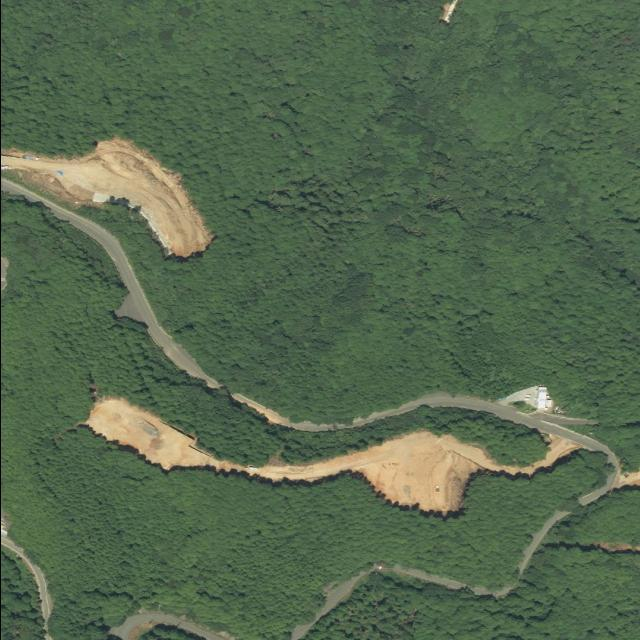landslide: (84, 398, 580, 513), (0, 137, 211, 256)
